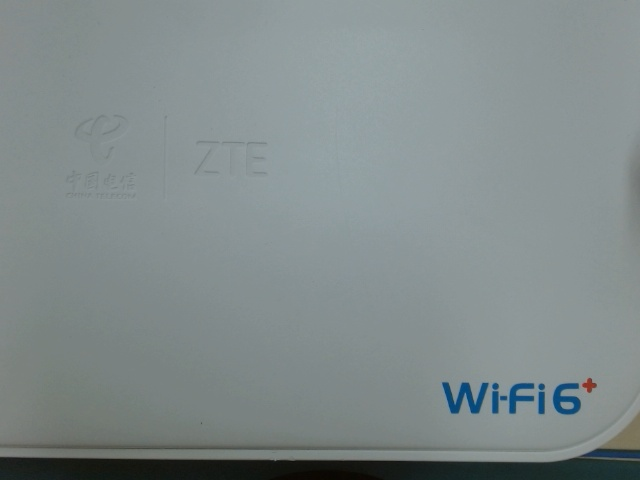AJ_ZTEWIFI6Plus: (430, 365, 610, 418)
